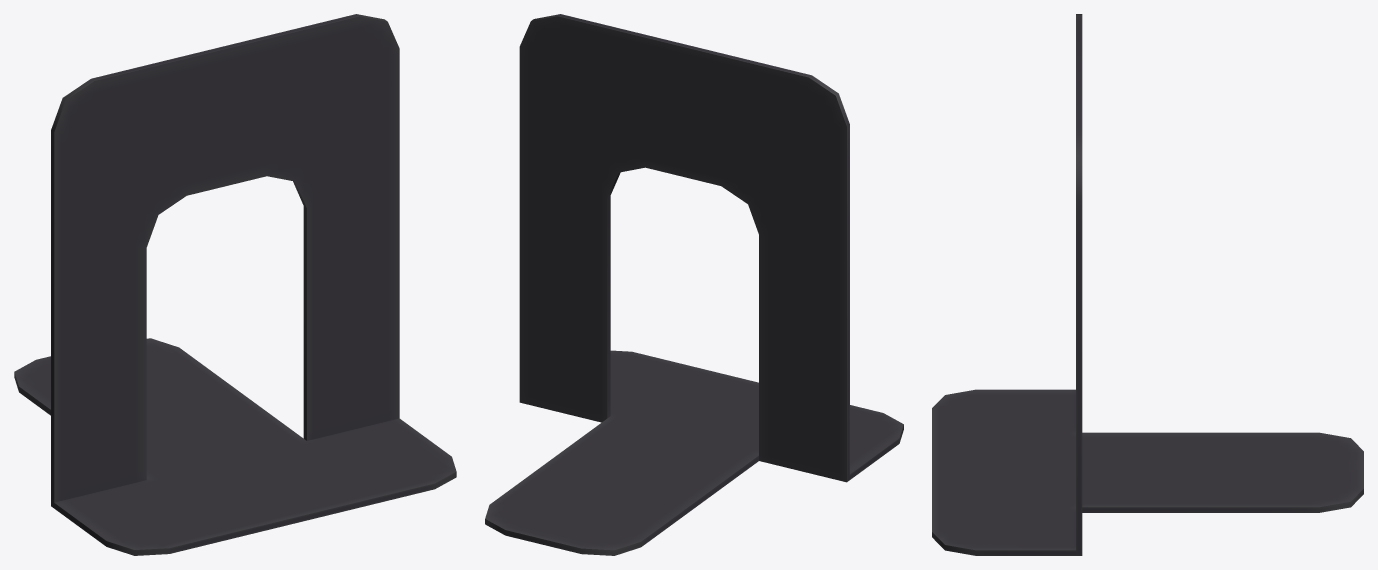
File: jsf_BookEnd_02.fbx
The picture shows the model from 3 angles, left to right: view 1: azimuth 30°, elevation 25°; view 2: azimuth 150°, elevation 25°; view 3: azimuth 270°, elevation 25°; orthographic projection. The views are drawn at different scales.
Visible parts, largest first — view 1: jsf_BookEnd_02; view 2: jsf_BookEnd_02; view 3: jsf_BookEnd_02.
Boxes of the visible parts, bbox=[...] form: jsf_BookEnd_02: bbox=[14, 14, 456, 555]; jsf_BookEnd_02: bbox=[485, 14, 903, 555]; jsf_BookEnd_02: bbox=[932, 14, 1363, 555].
Size of the model in its own units: 11.77 by 13.6 by 13.36.
